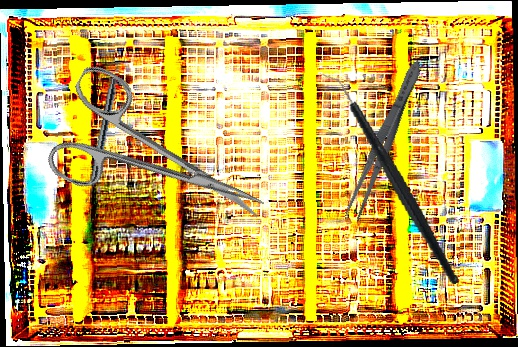Chopper: (319, 54, 459, 301)
Dressing Forceps: (341, 57, 429, 222)
Handpiece: (83, 76, 119, 205)
Iris Scissors: (35, 61, 286, 265)
